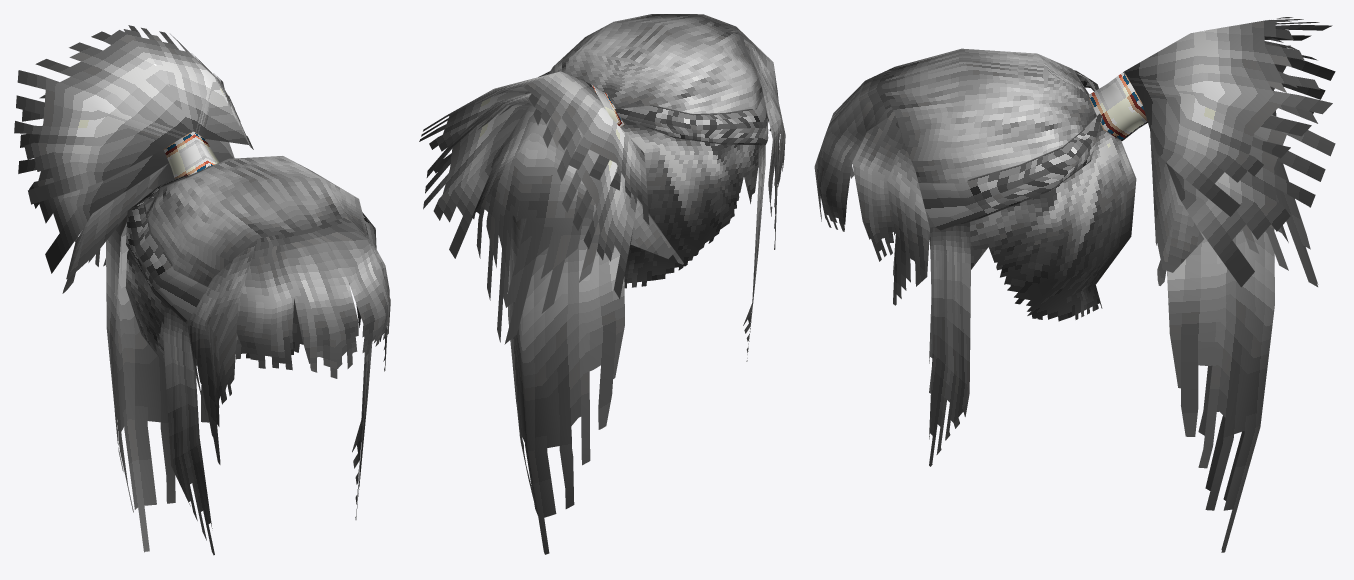
The model's file is f_head022.glb.
3 renders of one model, left to right at view 1: azimuth 30°, elevation 25°; view 2: azimuth 150°, elevation 25°; view 3: azimuth 270°, elevation 25°, orthographic. The views are drawn at different scales.
Size of the model in its own units: 21.51 by 44.67 by 38.51.
Materials: 1 (1 with a texture image).
